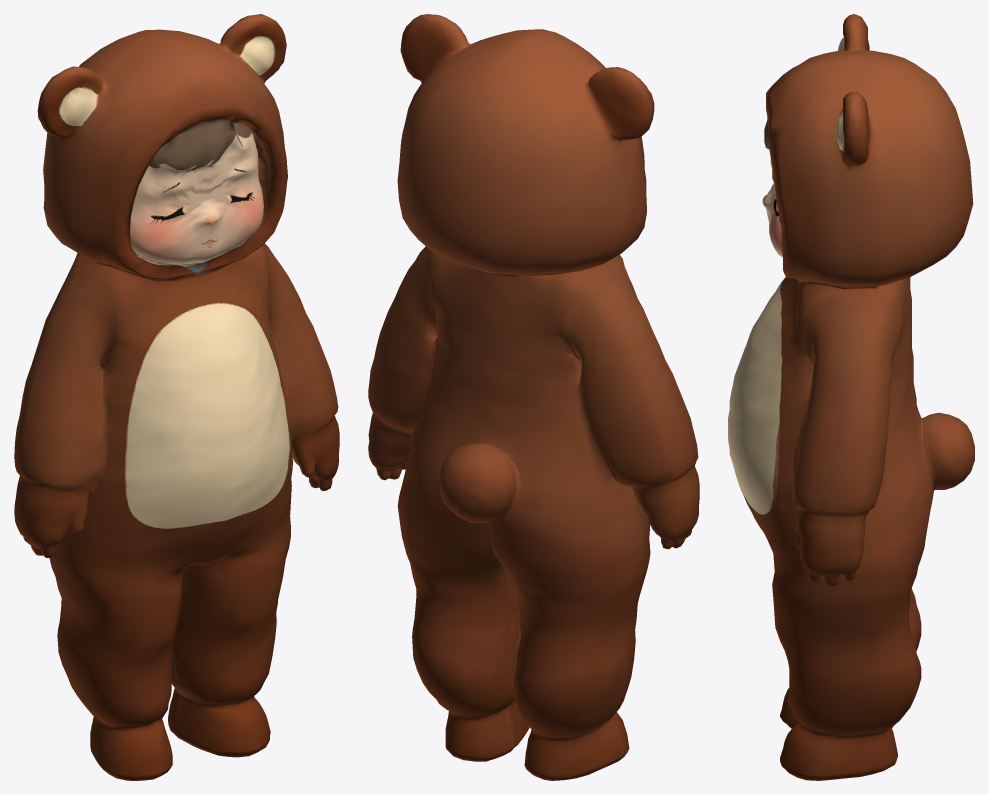
File: otto.glb
3 renders of one model, left to right at view 1: azimuth 30°, elevation 25°; view 2: azimuth 150°, elevation 25°; view 3: azimuth 270°, elevation 25°, orthographic. The views are drawn at different scales.
Size of the model in its own units: 0.8806 by 1.91 by 0.6145.
Materials: 1 (1 with a texture image).
